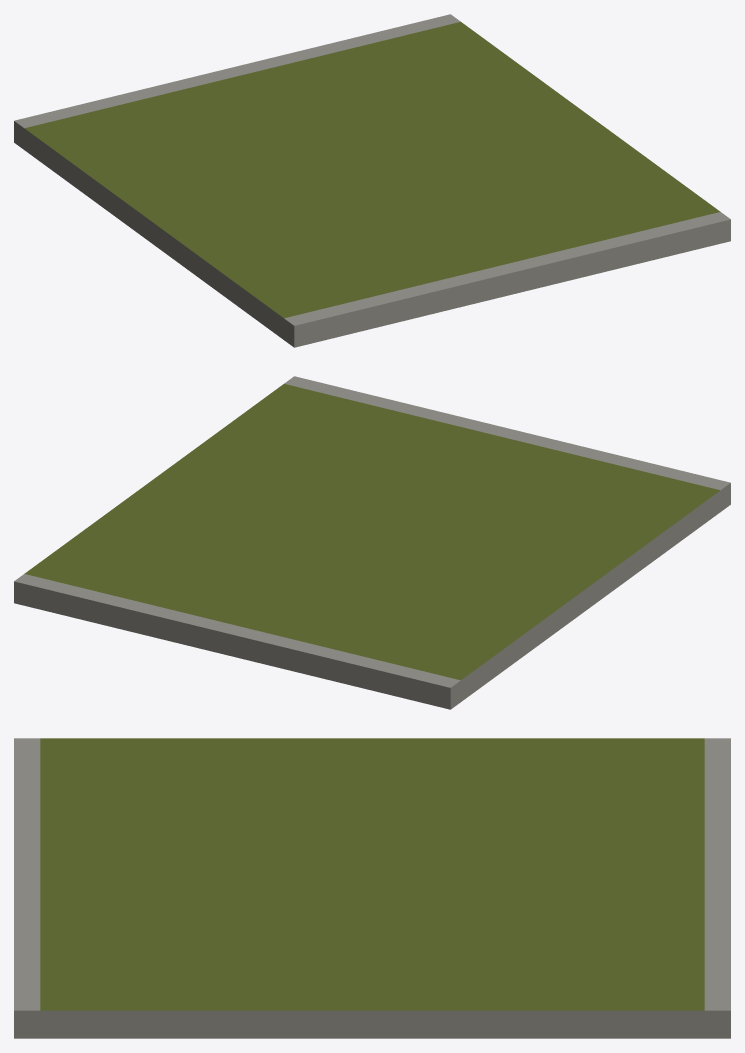
Rendered from median_straight_4p07.glb.
3 views of the same model, one above another, from view 1: azimuth 30°, elevation 25°; view 2: azimuth 150°, elevation 25°; view 3: azimuth 270°, elevation 25° (orthographic). The views are drawn at different scales.
Visible parts, largest first — view 1: median_straight_4p07-col; view 2: median_straight_4p07-col; view 3: median_straight_4p07-col.
Boxes of the visible parts, x1,y1,x2,y2 form: median_straight_4p07-col: (14, 14, 730, 347); median_straight_4p07-col: (14, 376, 730, 709); median_straight_4p07-col: (14, 738, 730, 1038).
Size of the model in its own units: 3.66 by 0.175 by 4.07.
